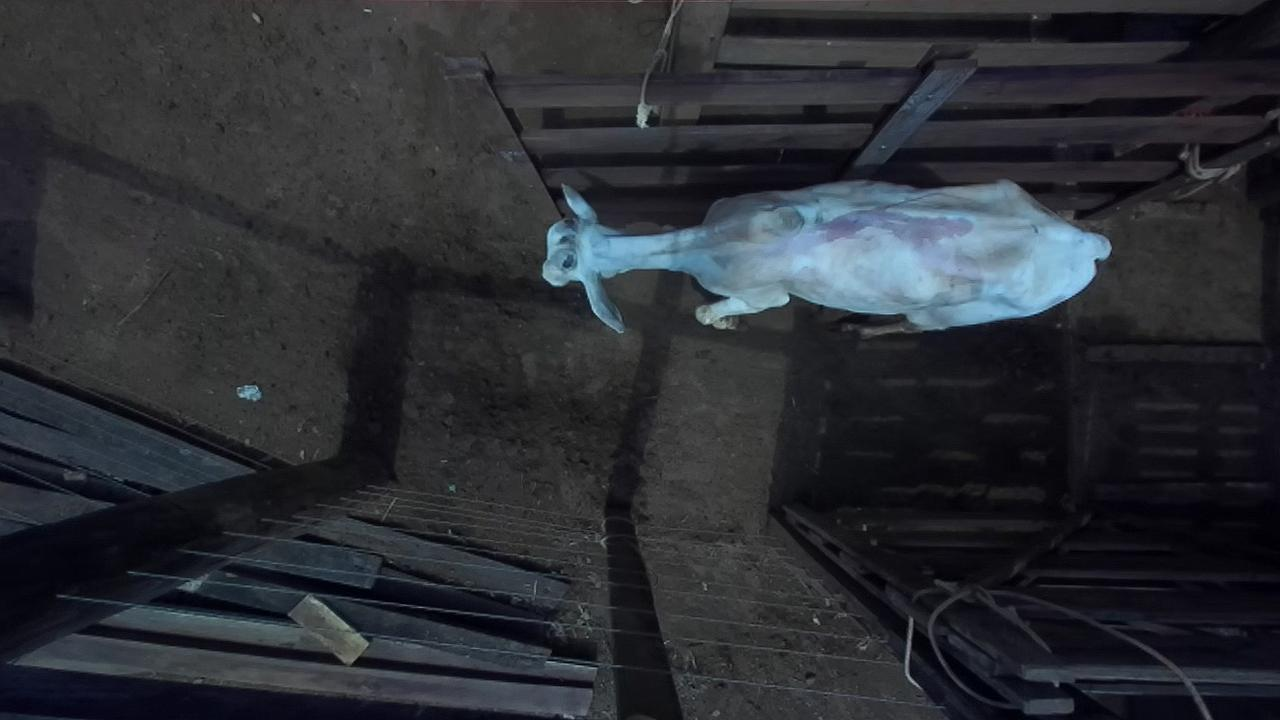cattle: (540, 175, 1112, 338)
